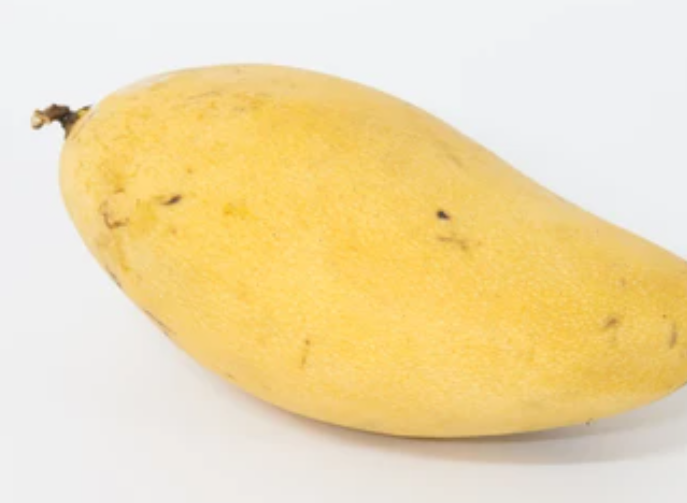mango: (58, 59, 687, 438)
